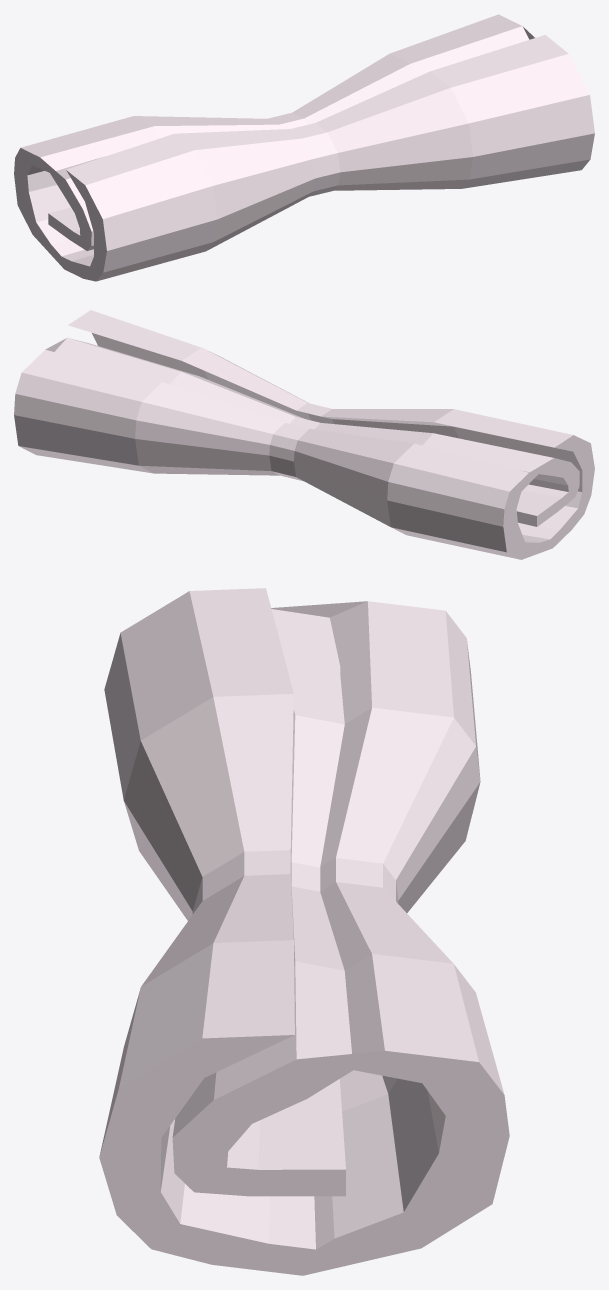
Rendered from Journal.fbx.
3 renders of one model, top to bottom at view 1: azimuth 30°, elevation 25°; view 2: azimuth 150°, elevation 25°; view 3: azimuth 270°, elevation 25°, orthographic. The views are drawn at different scales.
Visible parts, largest first — view 1: Journal; view 2: Journal; view 3: Journal.
Boxes of the visible parts, box(x1,y1,x2,y2) form: Journal: box(14, 14, 594, 281); Journal: box(14, 310, 594, 559); Journal: box(99, 588, 509, 1275).
Bounding box in the file's own units: 200 × 47.99 × 74.11.
